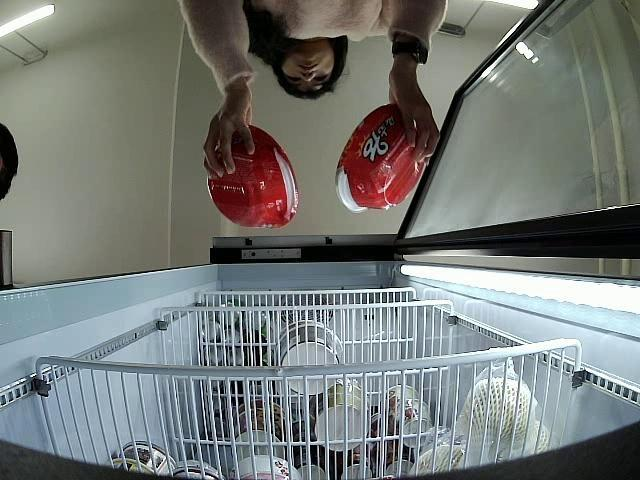10_wangTtukkeong: (206, 125, 299, 230), (336, 104, 425, 212)
